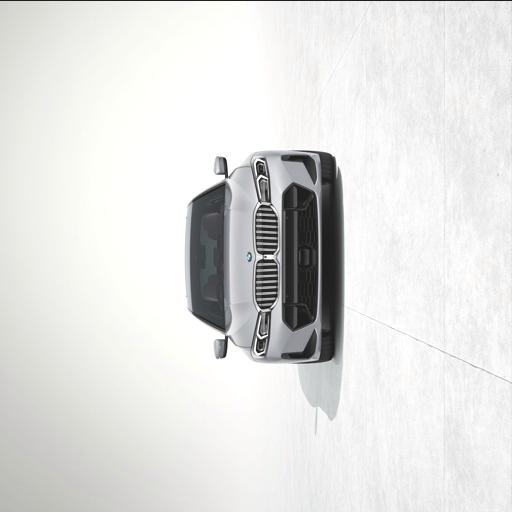sedan: (185, 150, 332, 361)
